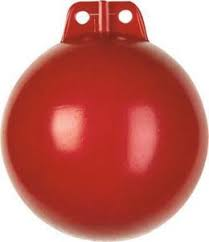buoy: (2, 43, 209, 239)
